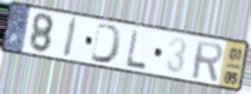3: (165, 36, 190, 77)
8: (27, 11, 56, 55)
D: (88, 21, 124, 66)
I: (61, 16, 80, 61)
L: (125, 27, 148, 71)
R: (191, 38, 225, 83)
